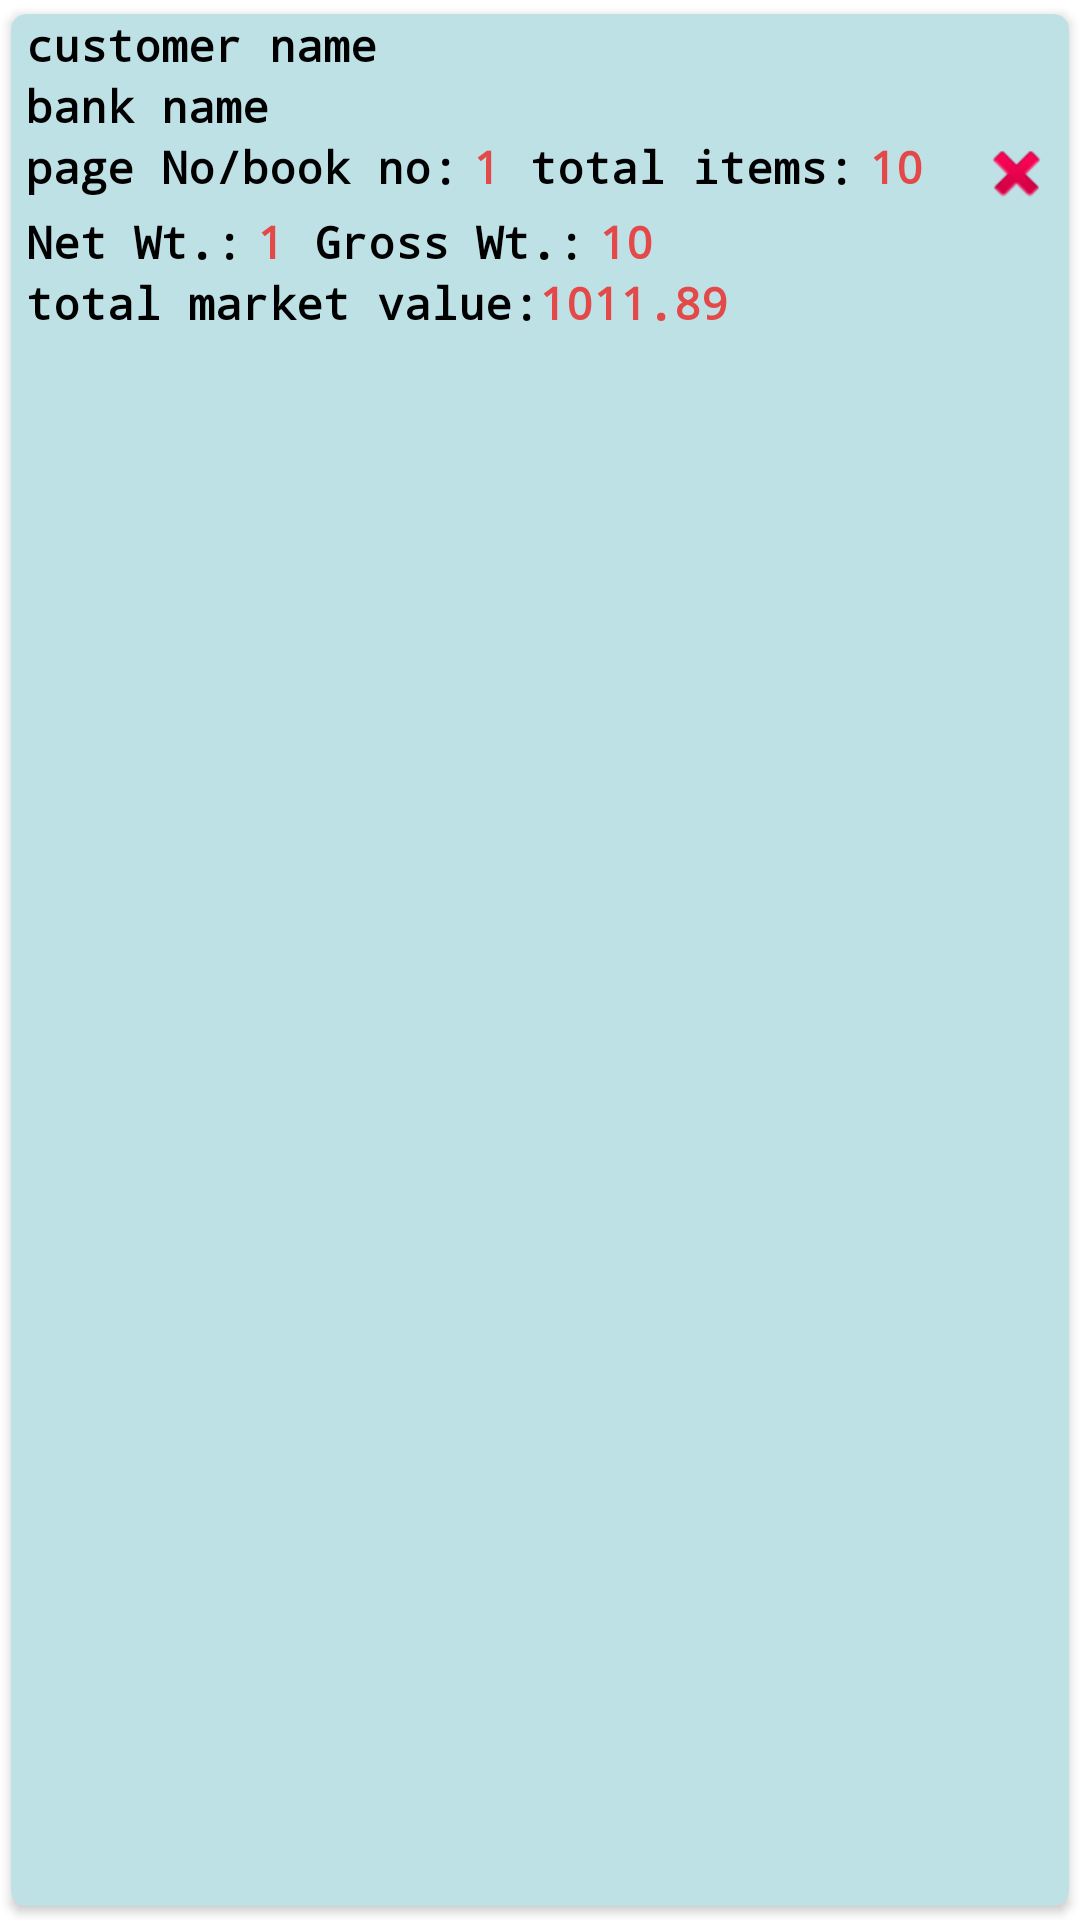

Named icons in this screenshot (1080×1920) and their centers, [x,y]:
delete: [1016,174]
